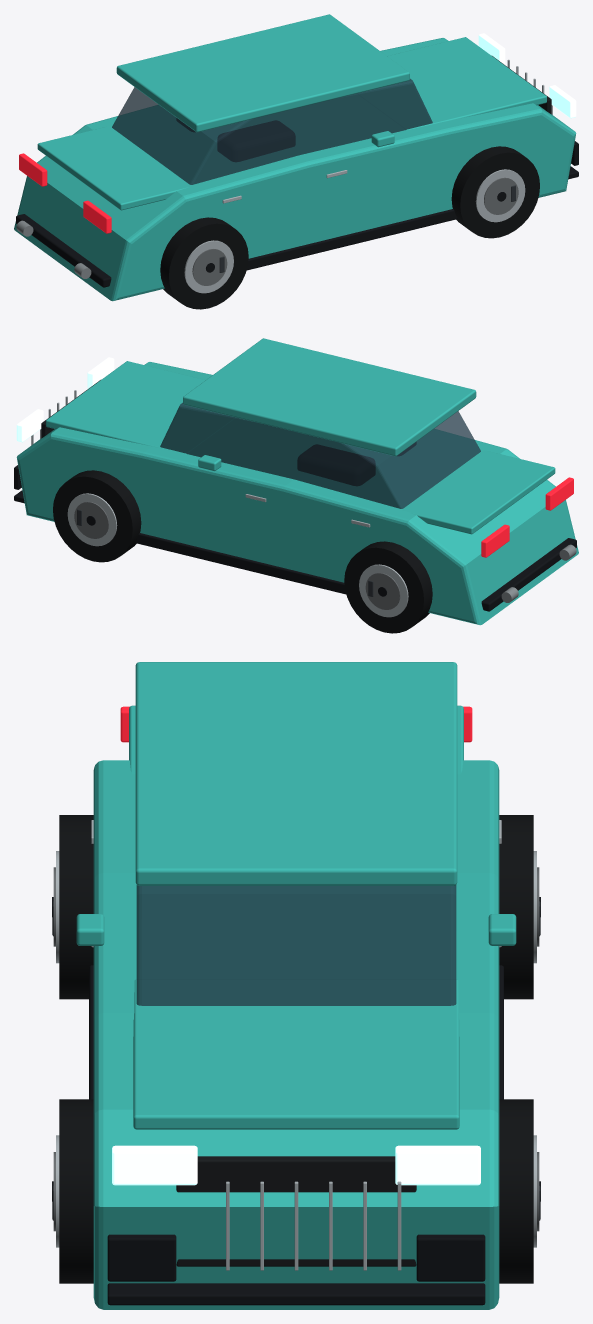
File: chevy_blazer.glb
3 views of the same model, one above another, from view 1: azimuth 30°, elevation 25°; view 2: azimuth 150°, elevation 25°; view 3: azimuth 270°, elevation 25° (orthographic). The views are drawn at different scales.
Visible parts, largest first — view 1: sculpted_body, roof, glasshouse, hood_center, rear_deck, rear_right_wheel_tire, front_right_wheel_tire, side_skirt_1, seat_1, rear_diffuser, rear_right_wheel_rim, front_right_wheel_rim (+6 smaller); view 2: sculpted_body, roof, glasshouse, hood_center, rear_deck, rear_left_wheel_tire, front_left_wheel_tire, side_skirt_-1, seat_-1, rear_diffuser, rear_left_wheel_rim, front_left_wheel_rim (+6 smaller); view 3: sculpted_body, roof, hood_center, glasshouse, front_grille, front_splitter, front_left_wheel_tire, front_right_wheel_tire, rear_left_wheel_tire, rear_right_wheel_tire, headlight_right, headlight_left (+5 smaller).
Boxes of the visible parts, x1,y1,x2,y2 form: sculpted_body: (14, 38, 576, 301); roof: (116, 14, 409, 132); glasshouse: (112, 78, 432, 184); hood_center: (358, 37, 546, 129); rear_deck: (37, 126, 190, 210); rear_right_wheel_tire: (160, 217, 248, 309); front_right_wheel_tire: (451, 146, 539, 238); side_skirt_1: (246, 209, 457, 270); seat_1: (218, 121, 294, 161); rear_diffuser: (16, 214, 111, 287); rear_right_wheel_rim: (184, 240, 233, 293); front_right_wheel_rim: (475, 169, 525, 222); sculpted_body: (16, 362, 578, 625); roof: (183, 338, 476, 456); glasshouse: (160, 402, 480, 508); hood_center: (46, 361, 234, 453); rear_deck: (402, 450, 555, 534); rear_left_wheel_tire: (344, 541, 432, 633); front_left_wheel_tire: (53, 470, 141, 562); side_skirt_-1: (135, 533, 346, 594); seat_-1: (298, 445, 374, 485); rear_diffuser: (481, 538, 576, 611); rear_left_wheel_rim: (359, 564, 408, 617); front_left_wheel_rim: (67, 493, 117, 546); sculpted_body: (93, 760, 499, 1309); roof: (135, 662, 457, 885); hood_center: (133, 979, 459, 1129); glasshouse: (136, 885, 456, 1005); front_grille: (176, 1156, 416, 1266); front_splitter: (107, 1283, 485, 1305); front_left_wheel_tire: (499, 1099, 533, 1283); front_right_wheel_tire: (59, 1099, 93, 1283); rear_left_wheel_tire: (499, 815, 533, 999); rear_right_wheel_tire: (59, 815, 93, 999); headlight_right: (112, 1145, 197, 1185); headlight_left: (395, 1145, 480, 1185).
Size of the model in its own units: 5.24 by 1.73 by 2.28.
